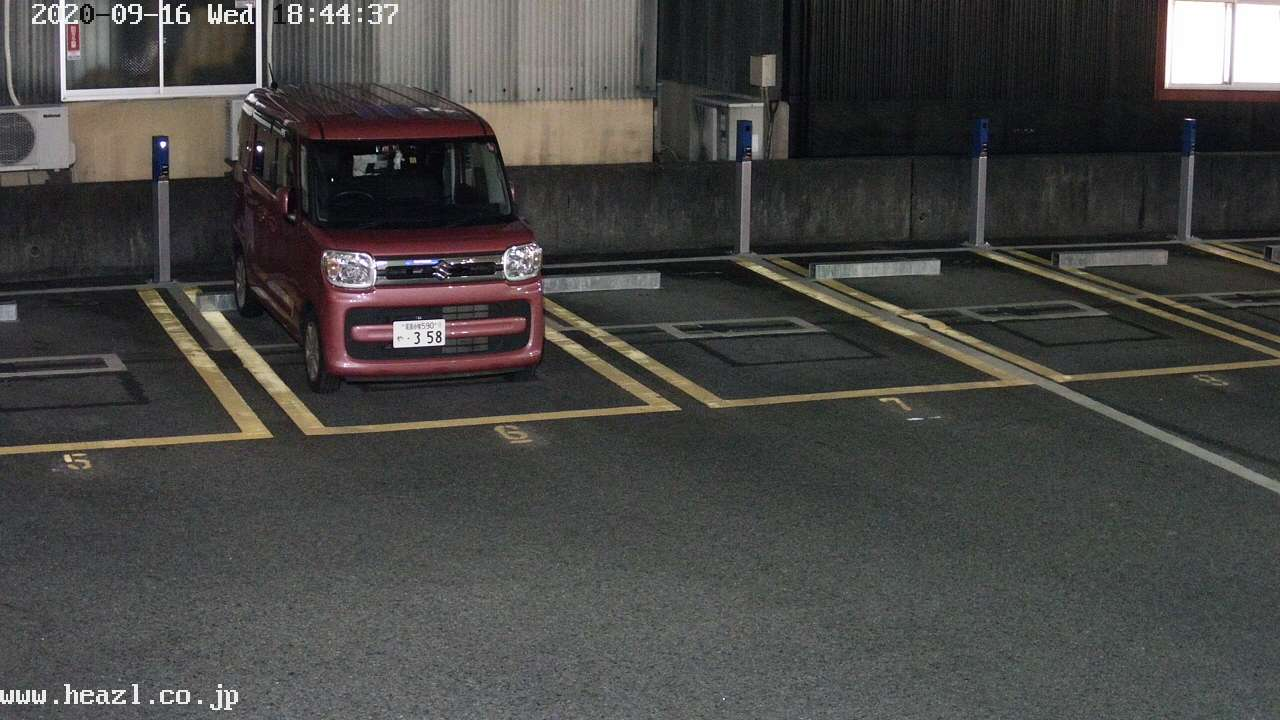number_plate: (390, 319, 447, 347)
